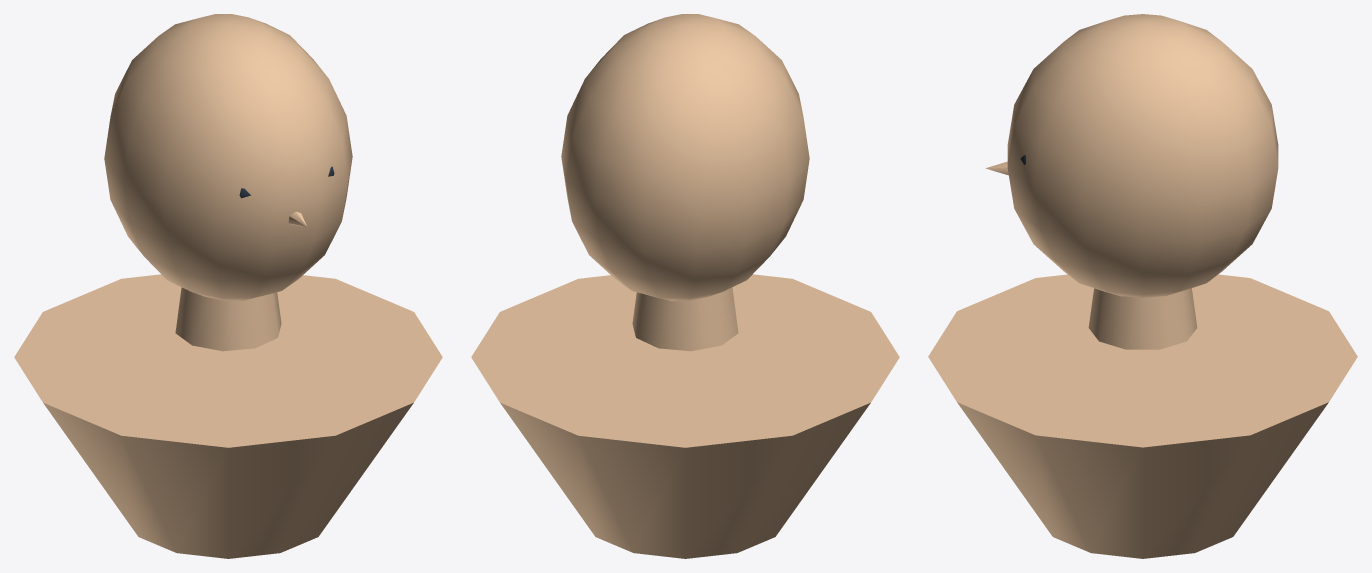
Rendered from raw_003.glb.
3 views of the same model, side by side, from view 1: azimuth 30°, elevation 25°; view 2: azimuth 150°, elevation 25°; view 3: azimuth 270°, elevation 25° (orthographic).
Bounding box in the file's own units: 1.66 × 2.1 × 1.66.
